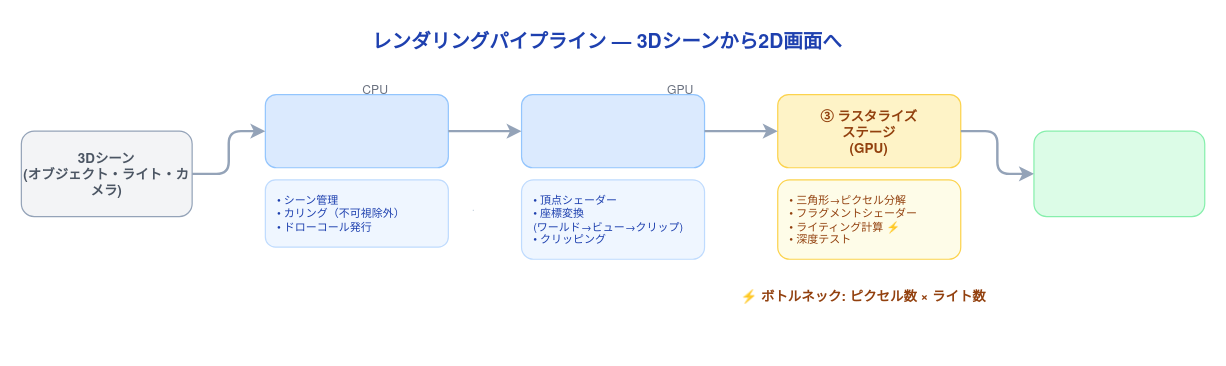
The diagram is 1226 pixels wide and 366 high, and some of its shapes have lost their labels. Each missing label, with the centre of its shape:
"2D画面 (フレームバッファ)" goes at (x=1119, y=173).
"① アプリケーション ステージ (CPU)" goes at (x=356, y=130).
"② ジオメトリ ステージ (GPU)" goes at (x=612, y=130).
